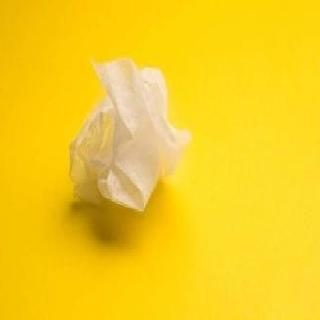8/可回收垃圾/纸: (67, 59, 189, 213)
